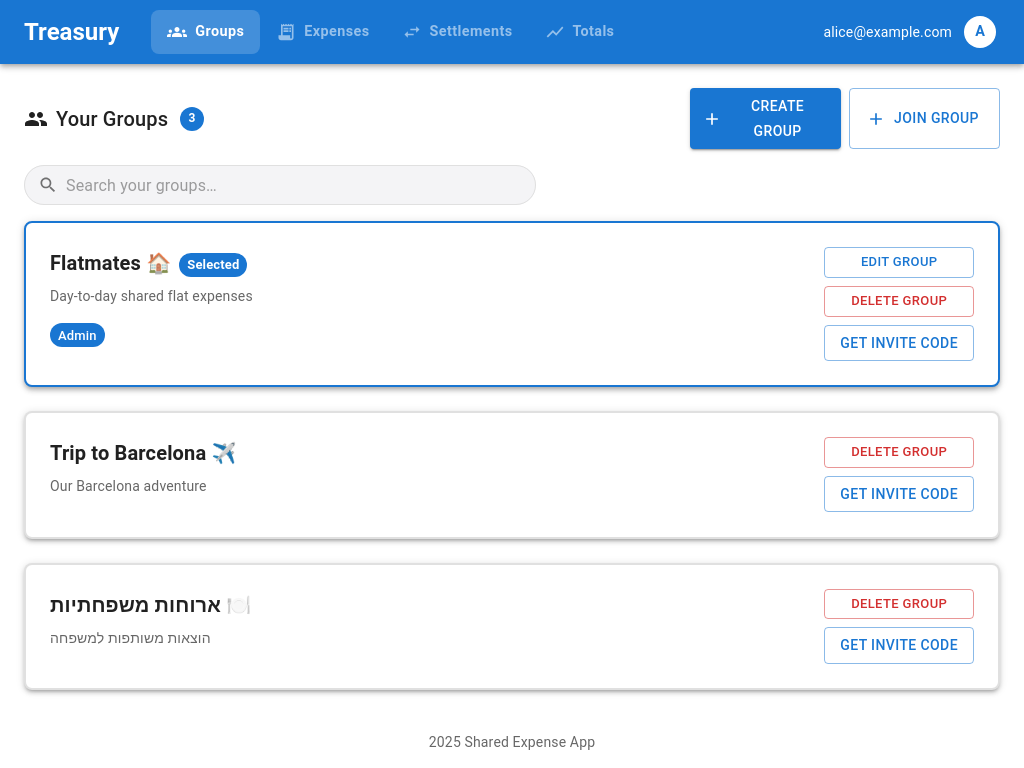
Scenario: MainApp - Integration Tests › should switch to the Settlements tab and render settlement content
Click the tab "Settlements": (457, 32) 386,10 -> 528,54
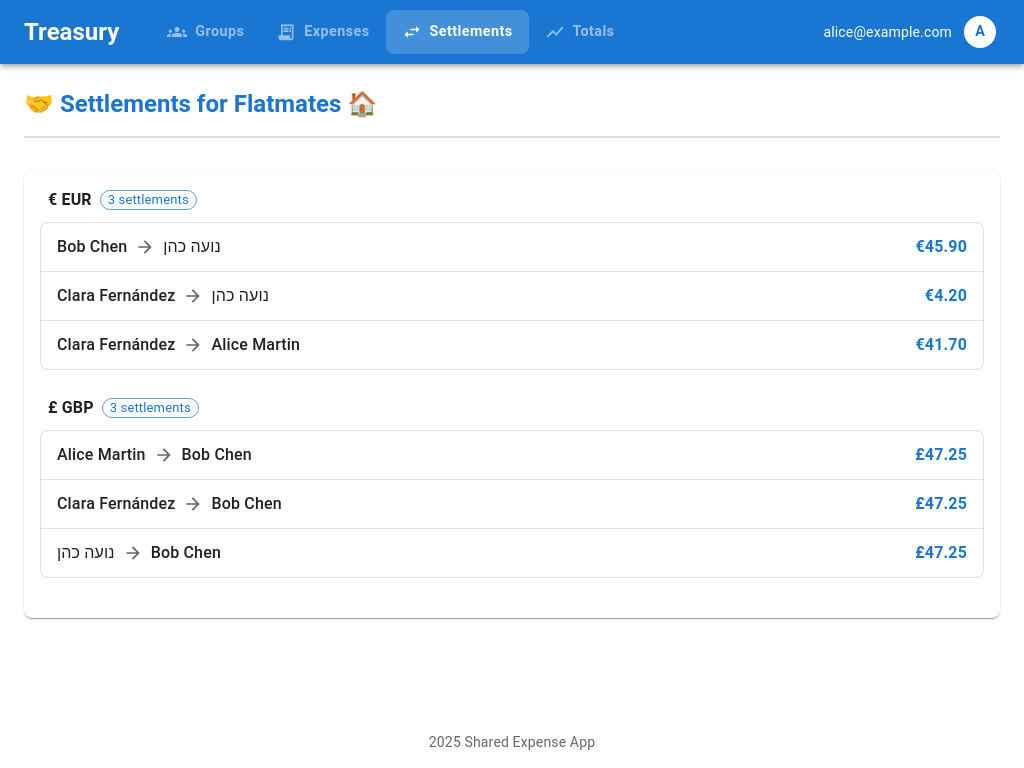
Result: the heading "🤝 Settlements for Flatmates 🏠" is shown at 24,90 -> 377,118
